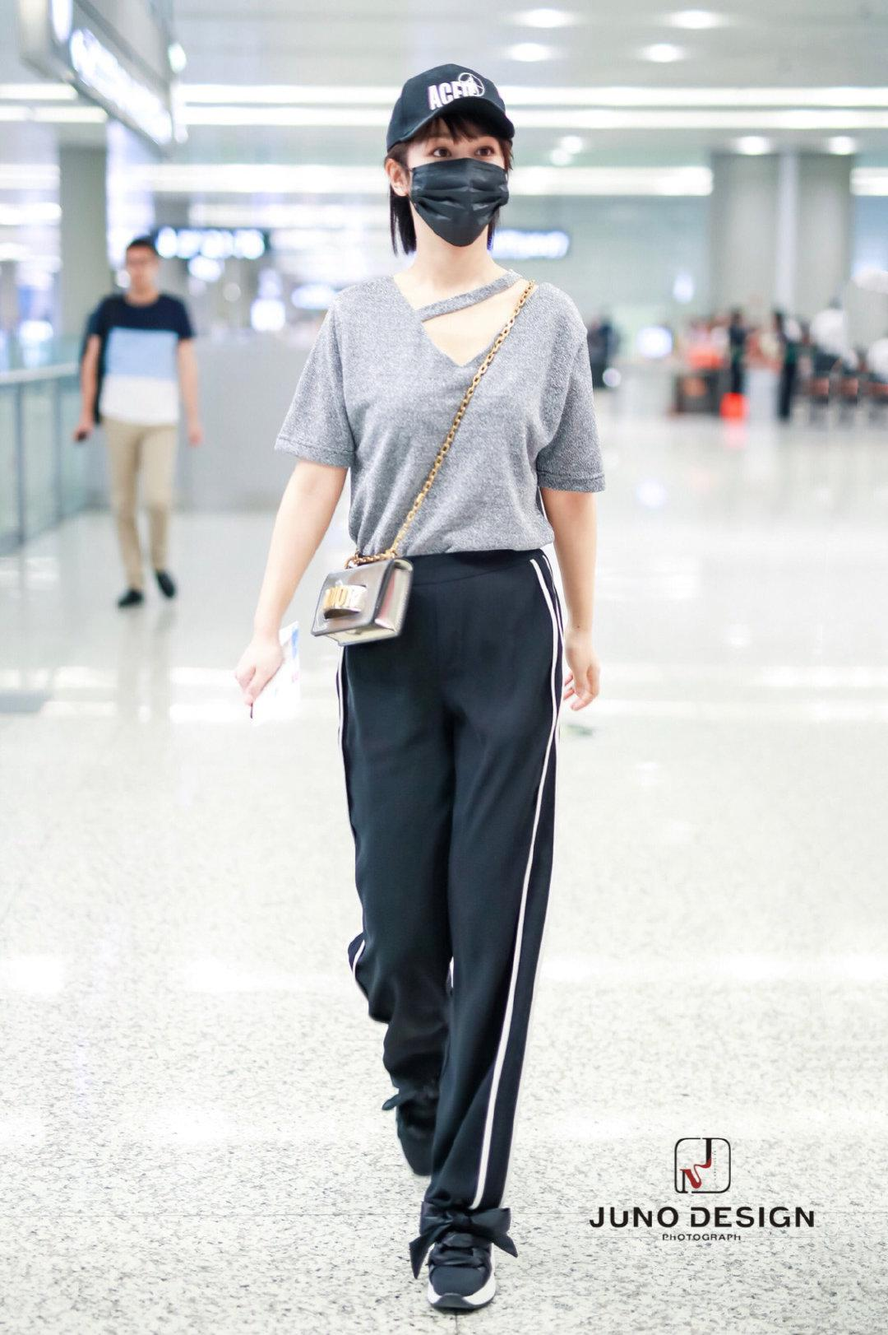NONE: (128, 251, 160, 292)
OK: (412, 133, 510, 246)
